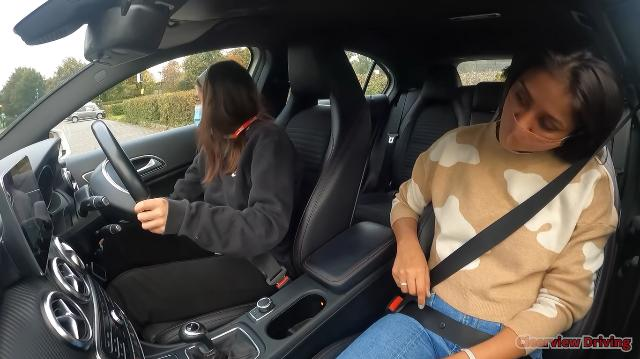seatbelt: (413, 132, 614, 292), (137, 113, 296, 255)
